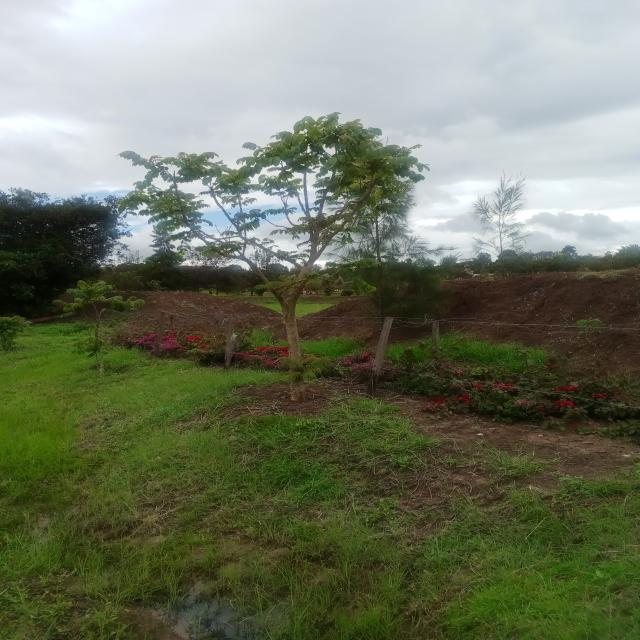Polyscias Kikuyensis: (106, 106, 448, 404)
